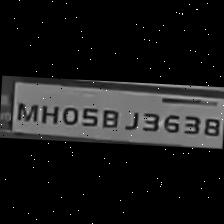0: (58, 102, 80, 125)
3: (180, 111, 199, 135)
5: (79, 104, 98, 128)
6: (160, 110, 180, 134)
8: (199, 113, 222, 137)
B: (97, 106, 120, 130)
E: (140, 108, 160, 134)
H: (35, 101, 59, 125)
J: (121, 106, 140, 132)
M: (14, 99, 38, 122)
